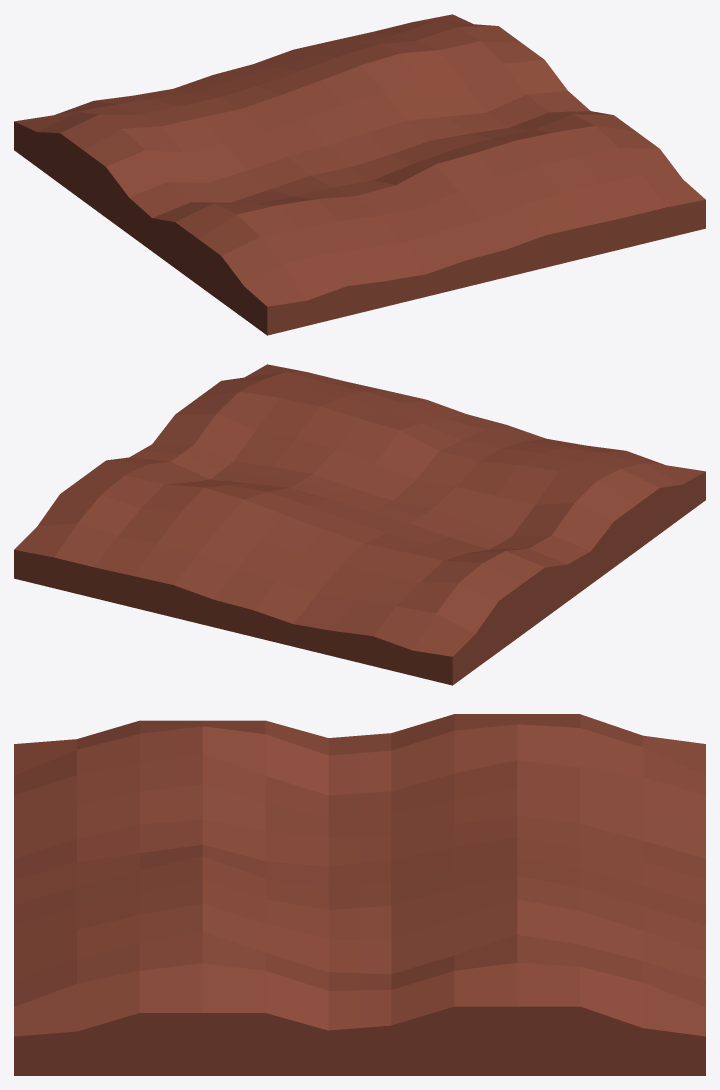
File: Grond Standaard.fbx
3 renders of one model, top to bottom at view 1: azimuth 30°, elevation 25°; view 2: azimuth 150°, elevation 25°; view 3: azimuth 270°, elevation 25°, orthographic. The views are drawn at different scales.
Visible parts, largest first — view 1: untilted ground; view 2: untilted ground; view 3: untilted ground.
Boxes of the visible parts, x1,y1,x2,y2 form: untilted ground: (14, 14, 705, 335); untilted ground: (14, 364, 705, 685); untilted ground: (14, 714, 705, 1075).
Size of the model in its own units: 2 by 0.305 by 2.
